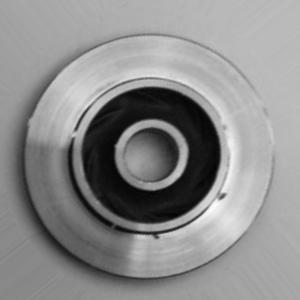crack: (143, 224, 167, 251), (215, 186, 230, 205)
scratch: (213, 103, 246, 160)
unpolished_casting: (22, 34, 278, 280)
